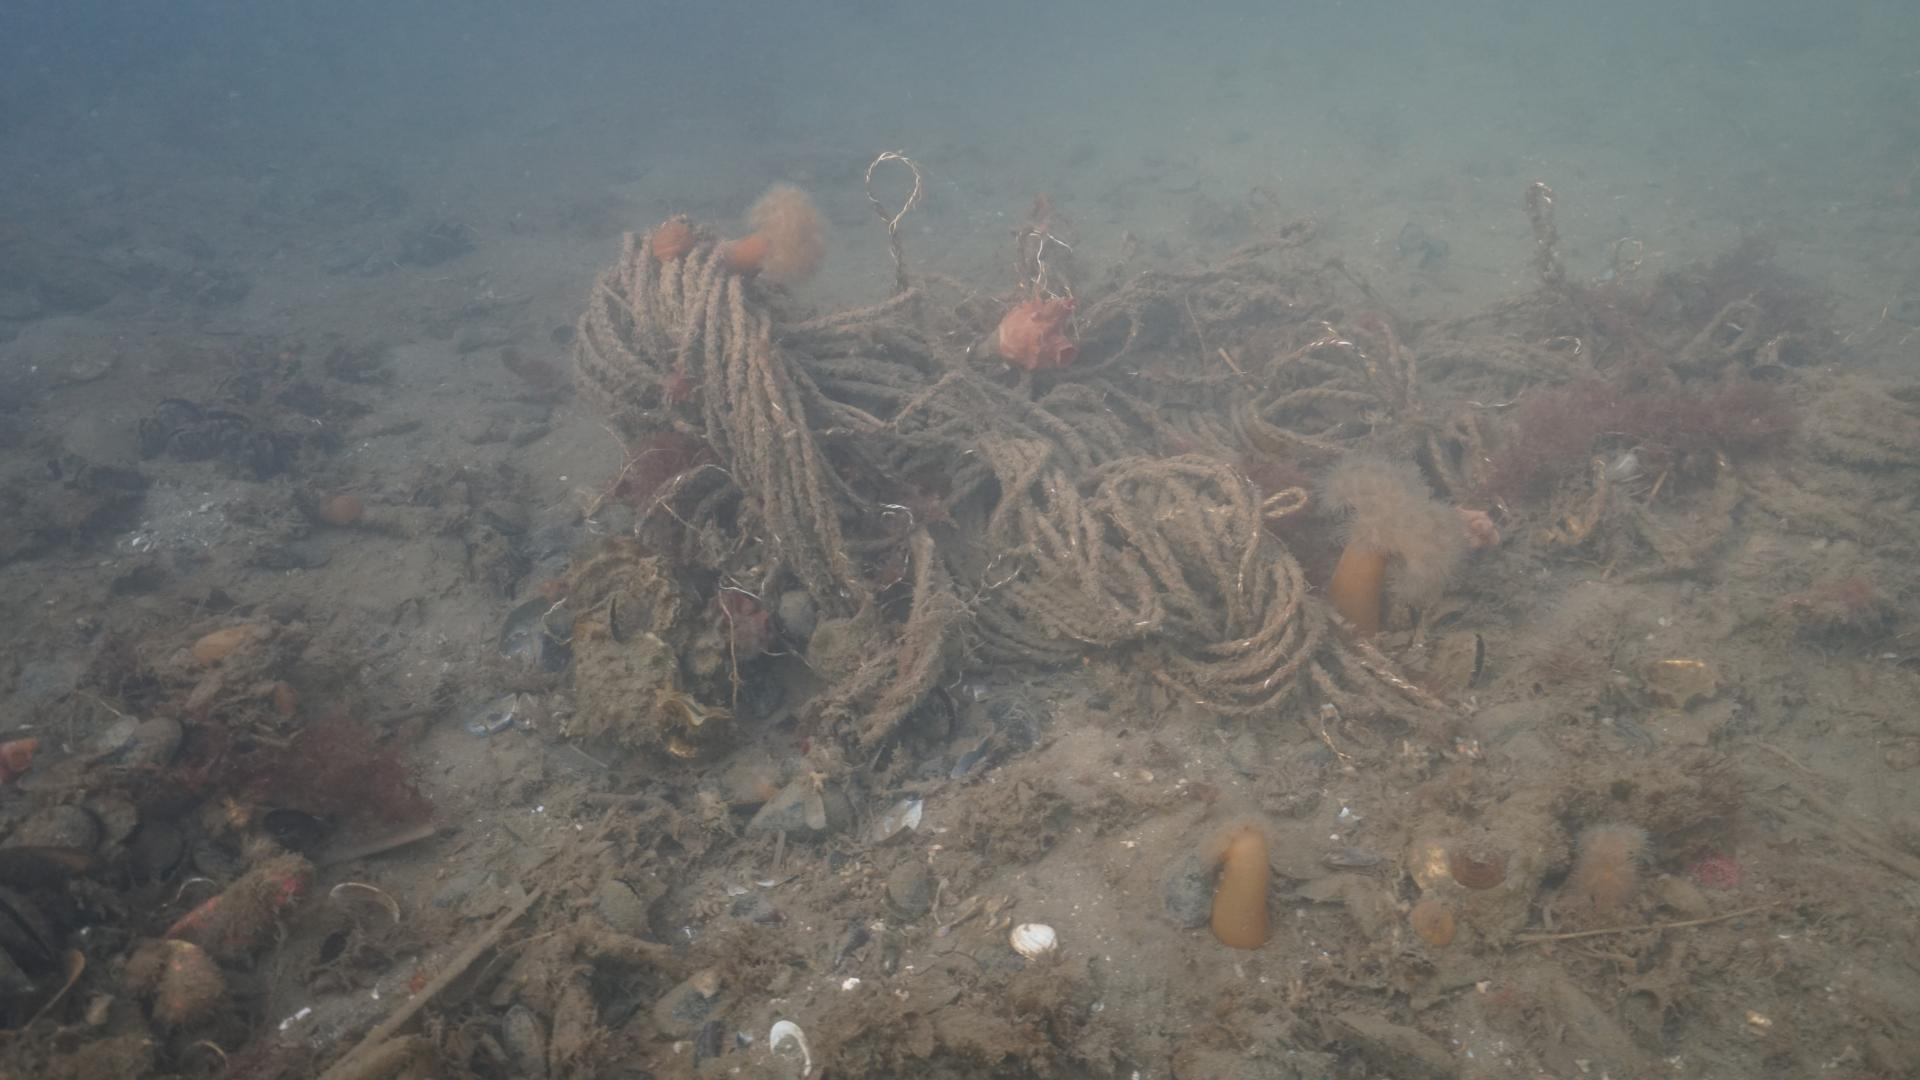bundle of ropes: (567, 146, 1920, 746)
